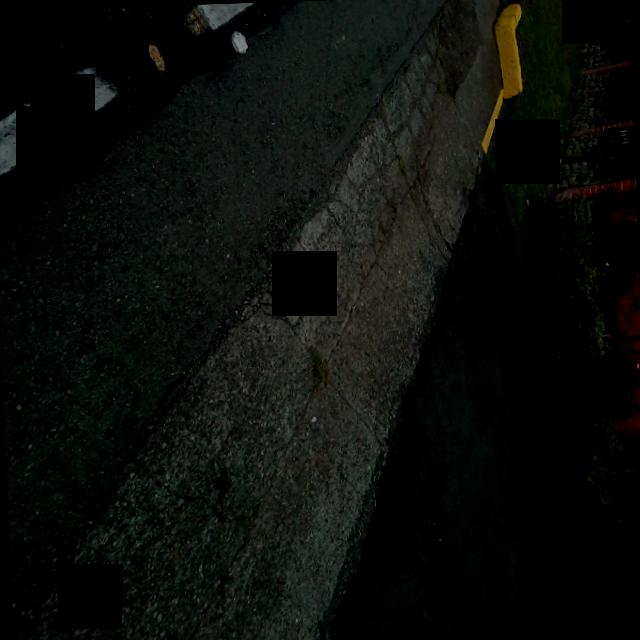DITCH: (0, 58, 607, 640), (0, 0, 551, 640), (0, 57, 593, 640)
